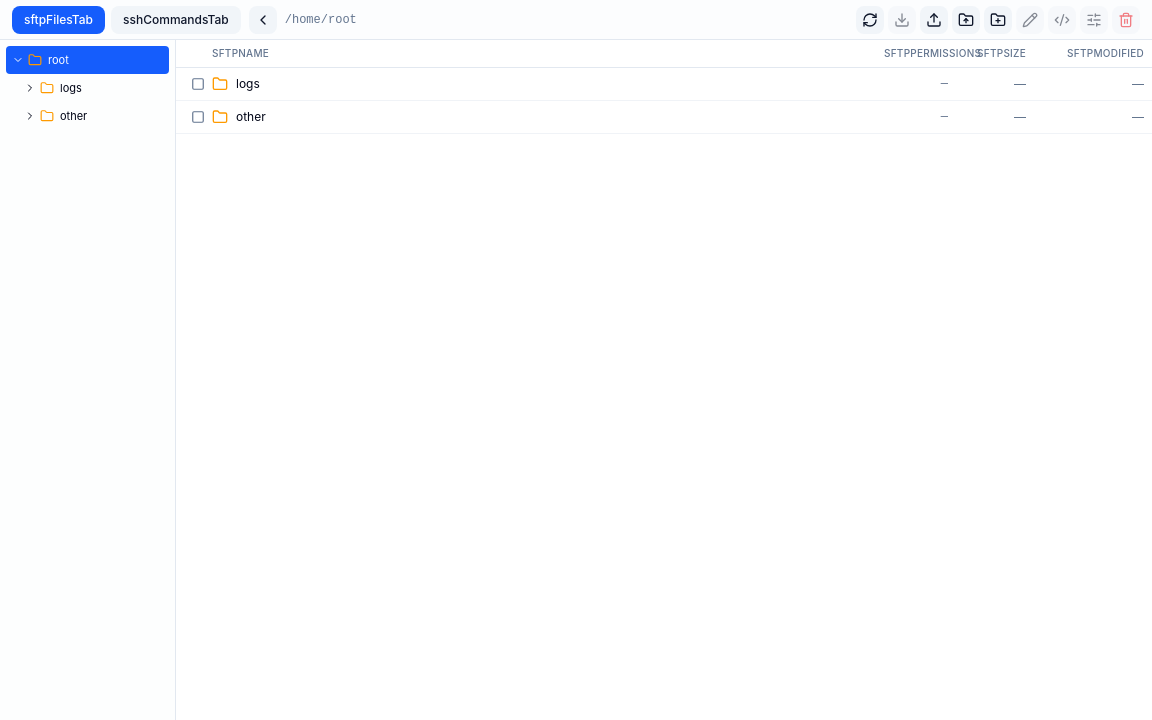
Test: SFTP panel › keeps the latest navigation when an earlier read finishes with success
Expected: the button "logs — — —" is shown, left=212, top=68, right=1144, bottom=100
Step 1. Click the button named "sftpToggleDirectory logs" → (30, 88), box left=20, top=78, right=40, bottom=98
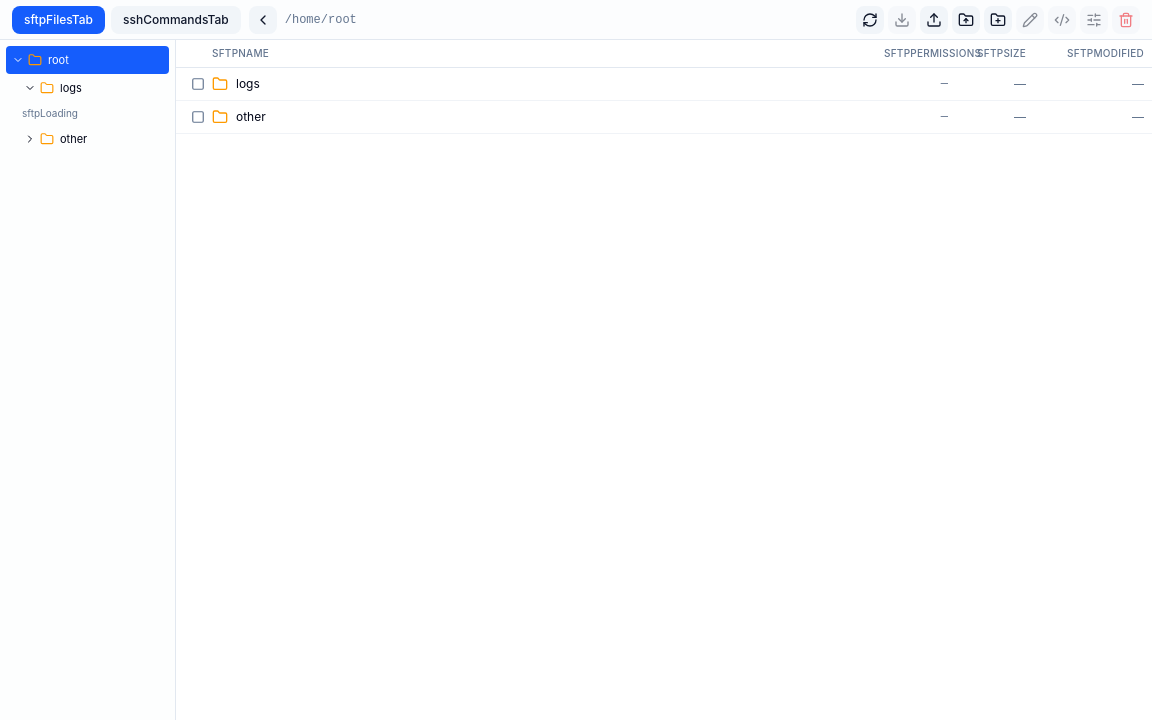
Step 2. Click the button "logs" → (102, 88), box left=40, top=76, right=165, bottom=100
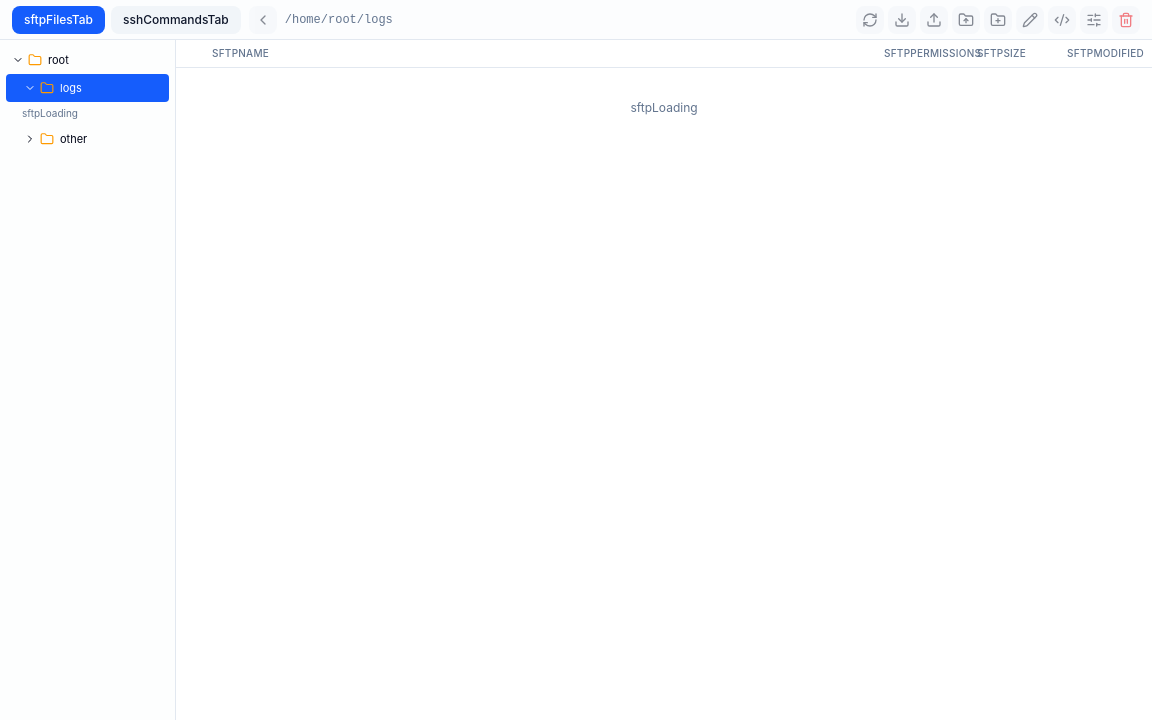
Expected: the button named "sftpToggleDirectory logs" has attribute aria-busy="true", left=20, top=78, right=40, bottom=98
Step 3. Click the button "other" → (102, 139), box left=40, top=127, right=165, bottom=151
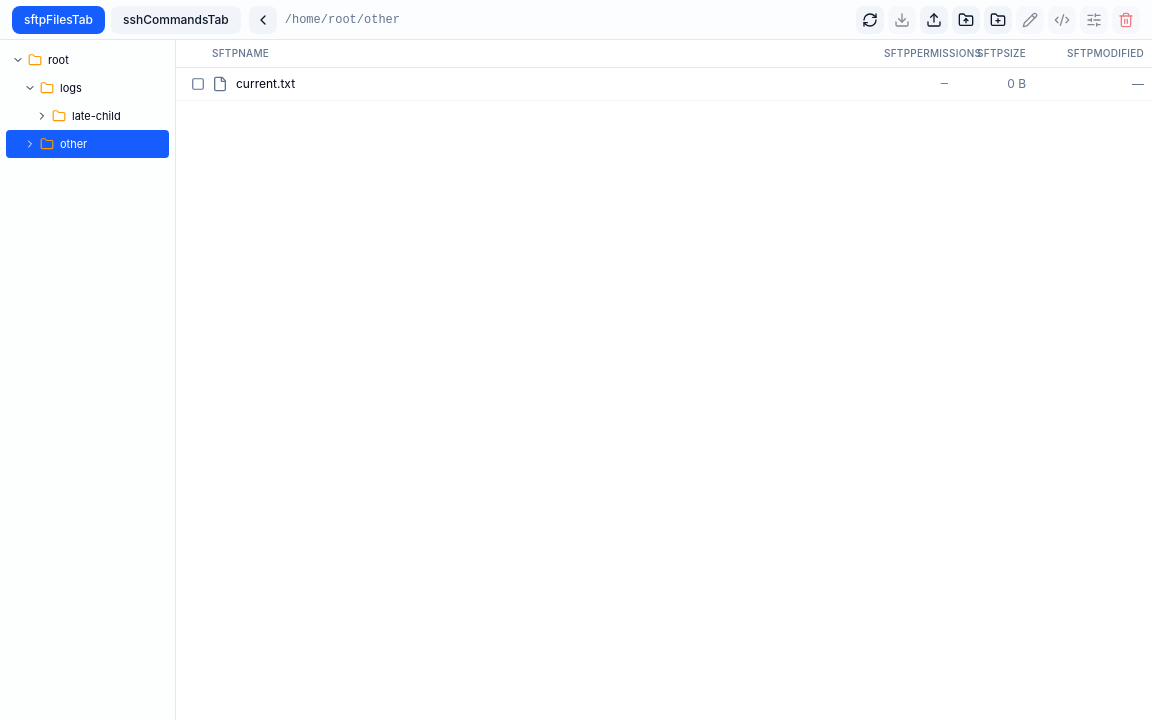
Expected: the button "current.txt — 0 B —" is shown, left=212, top=68, right=1144, bottom=100
Expected: the button named "sftpRefresh" is enabled, left=856, top=6, right=884, bottom=34
